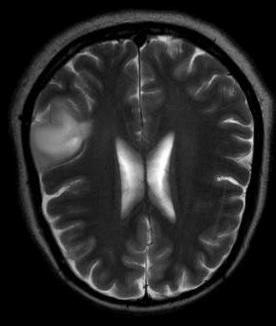Normal_Brain: (17, 14, 276, 326)
